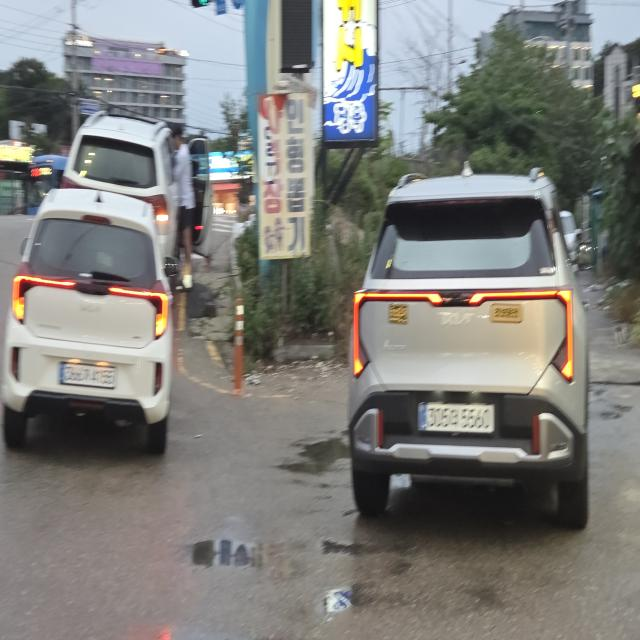car: (334, 136, 608, 560), (2, 172, 185, 451), (49, 100, 196, 320)
